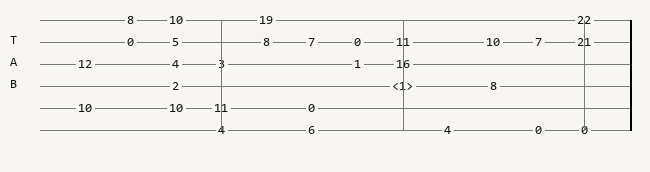0: (127, 36, 138, 48), (308, 102, 319, 114), (354, 36, 365, 48), (535, 124, 546, 136), (581, 124, 592, 136)
1: (354, 58, 365, 70)
10: (78, 102, 96, 114), (169, 14, 187, 26), (169, 102, 187, 114), (486, 36, 504, 48)
11: (214, 102, 232, 114), (396, 36, 414, 48)
12: (78, 58, 96, 70)
16: (396, 58, 414, 70)
19: (259, 14, 277, 26)
2: (172, 80, 183, 92)
21: (577, 36, 595, 48)
22: (577, 14, 595, 26)
3: (218, 58, 229, 70)
4: (172, 58, 183, 70), (218, 124, 229, 136), (444, 124, 455, 136)
5: (172, 36, 183, 48)
6: (308, 124, 319, 136)
7: (308, 36, 319, 48), (535, 36, 546, 48)
8: (127, 14, 138, 26), (263, 36, 274, 48), (490, 80, 501, 92)
harmonic: (392, 80, 417, 92)
